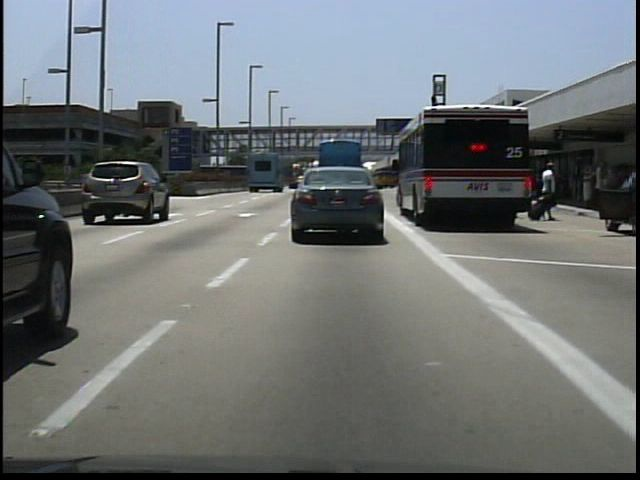person: (536, 160, 557, 222)
